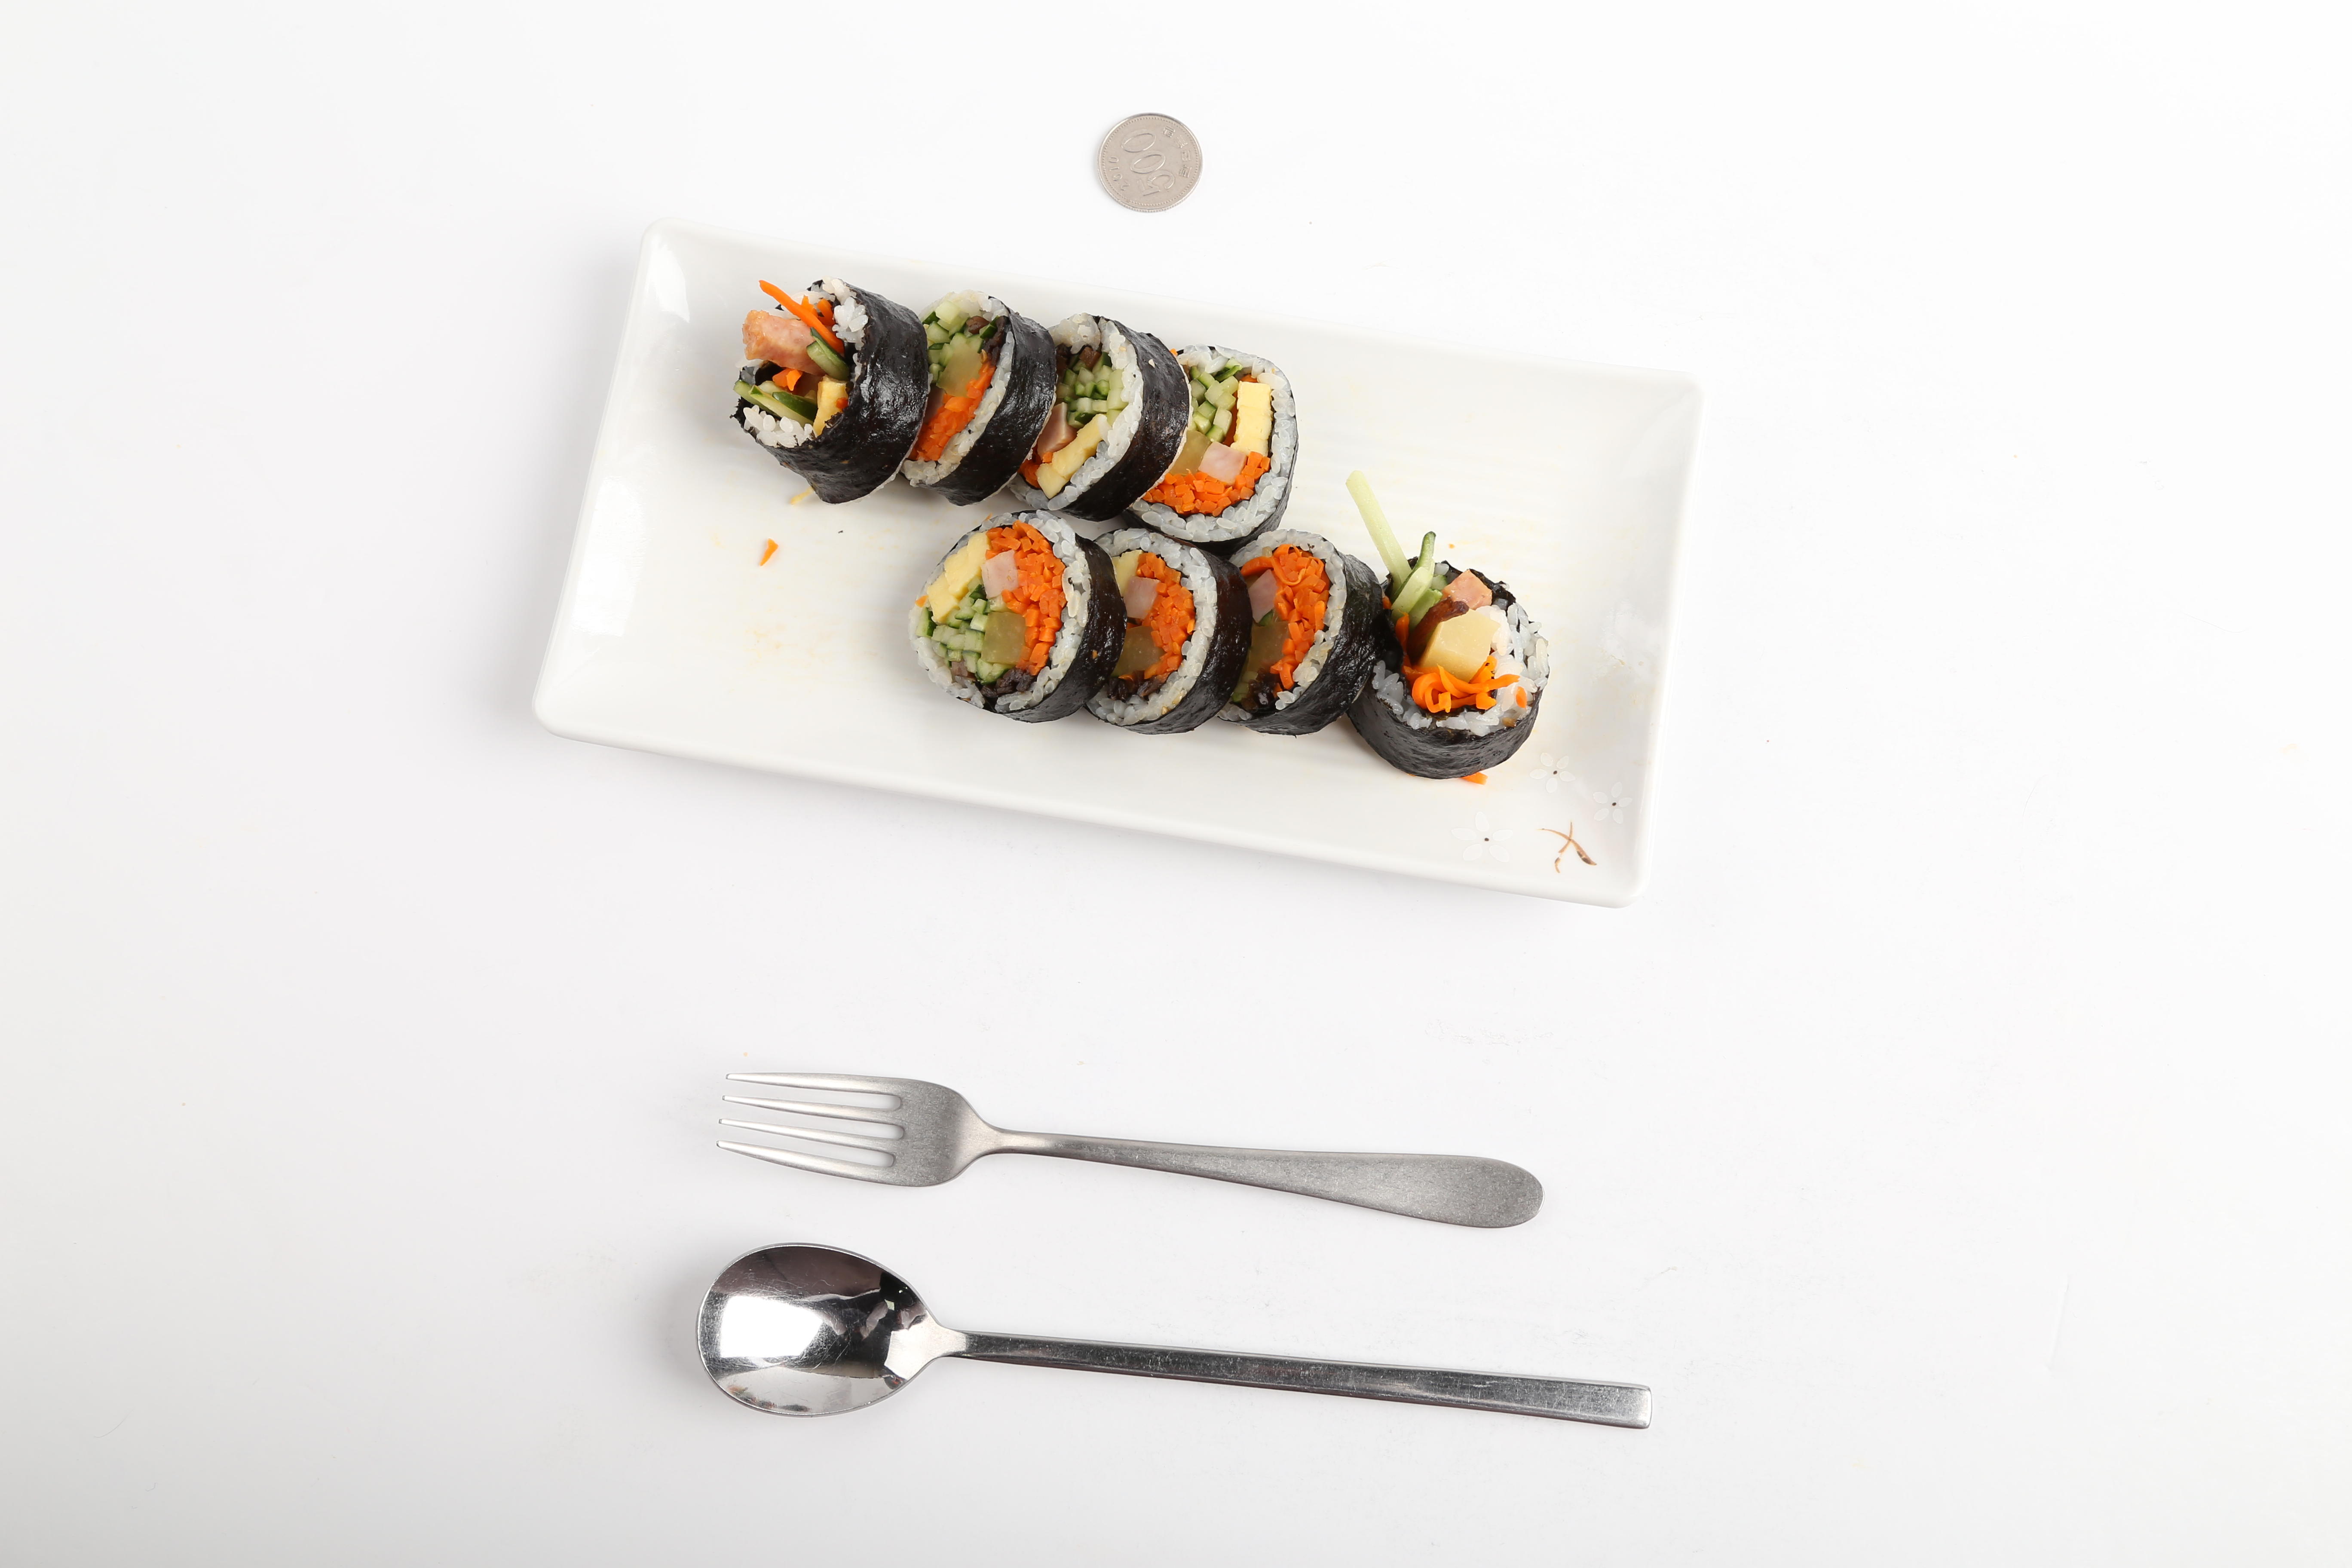dish: (527, 210, 1706, 910)
ref_coin: (1090, 107, 1207, 220)
ref_fork: (710, 1062, 1080, 1192)
ref_spoon: (693, 1237, 1034, 1419)
김밥: (735, 273, 1556, 780)
